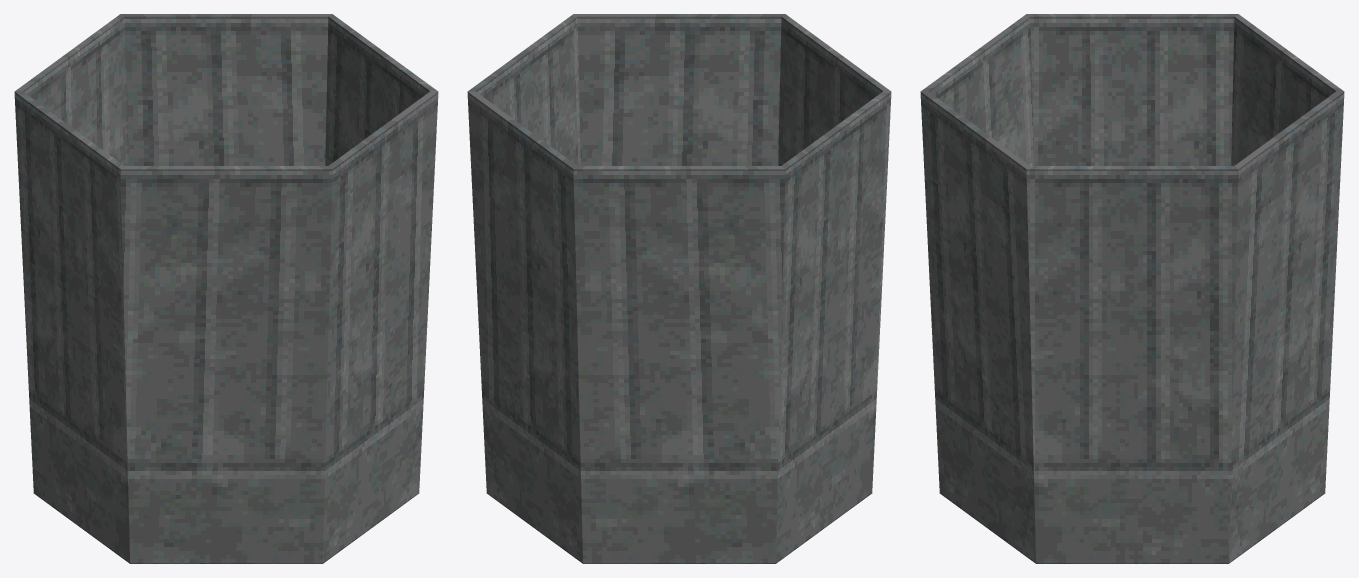
Rendered from metaltrashcan_open_dirty.glb.
3 renders of one model, left to right at view 1: azimuth 30°, elevation 25°; view 2: azimuth 150°, elevation 25°; view 3: azimuth 270°, elevation 25°, orthographic.
Visible parts, largest first — view 1: metaltrashcan_open_dirty; view 2: metaltrashcan_open_dirty; view 3: metaltrashcan_open_dirty.
Boxes of the visible parts, x1=… form: metaltrashcan_open_dirty: x1=14, y1=14, x2=438, y2=563; metaltrashcan_open_dirty: x1=467, y1=14, x2=891, y2=563; metaltrashcan_open_dirty: x1=920, y1=14, x2=1344, y2=563.
Size of the model in its own units: 0.7263 by 0.8777 by 0.8387.
1 material, 1 textured.
